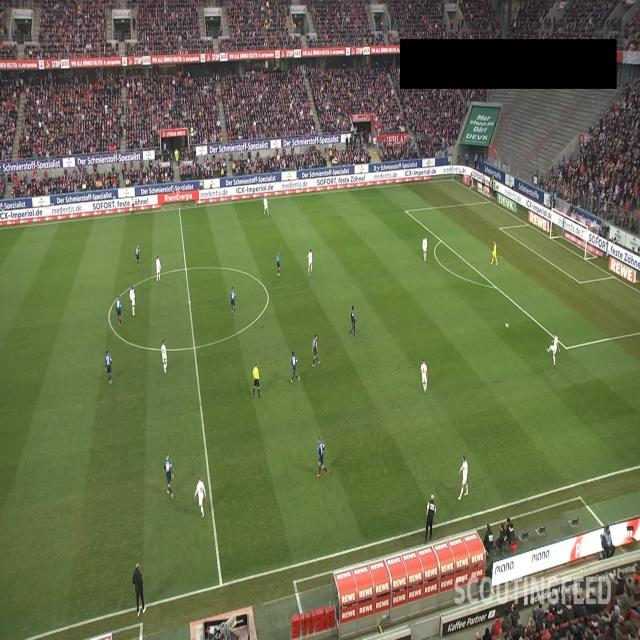ball: (504, 322, 510, 330)
